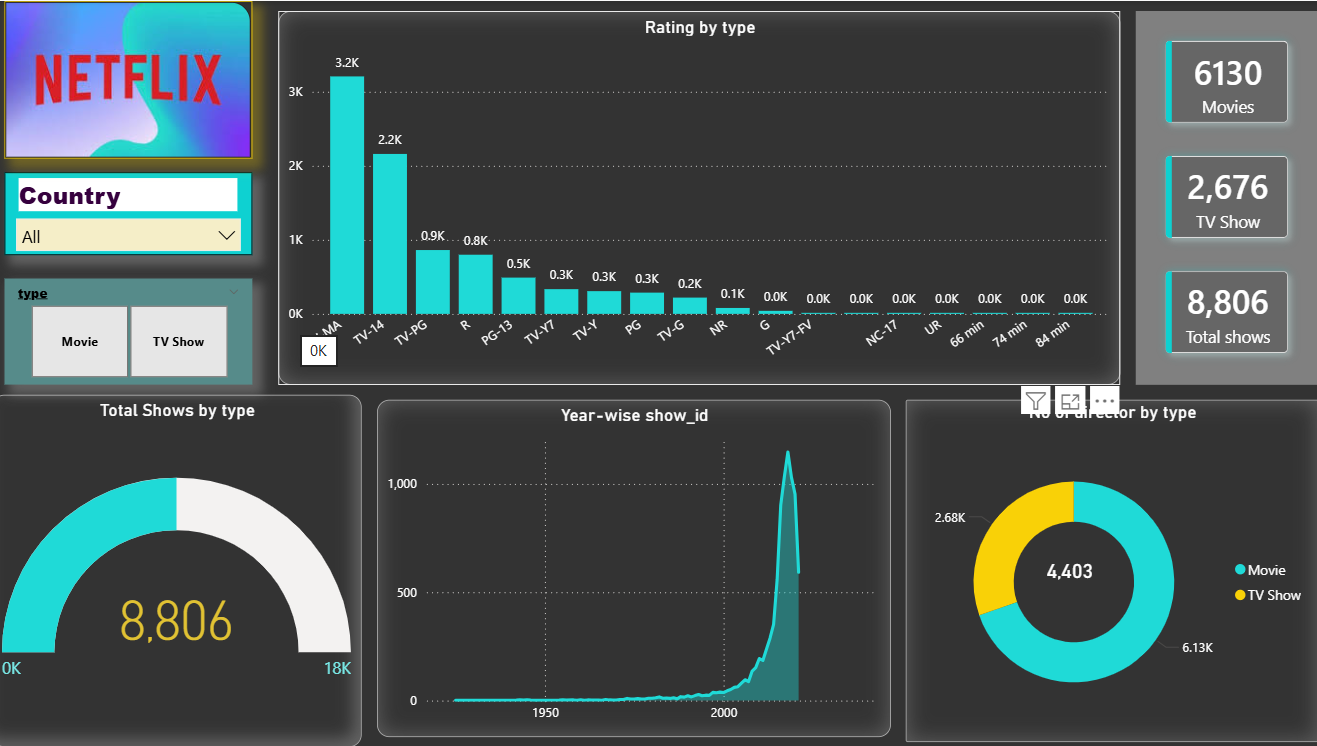

The dashboard page shown, as its layout file describes it:
{"tool":"powerbi","page":{"name":"Page 1","canvas":[1280,720],"ordinal":0},"visuals":[{"type":"cardVisual","fields":{"Data":["Measure_.Movies","Measure_.TV Shows","Measure_.Total shows"]},"box":[1103.9,9.7,176.1,360.7],"z":0},{"type":"gauge","title":"Total Shows by type","fields":{"Y":["Measure_.Total shows"]},"box":[0,380.1,356.8,340.3],"z":1000},{"type":"donutChart","title":"No of director by type","fields":{"Category":["netflix_titles.type"],"Y":["CountNonNull(netflix_titles.Director_new)"]},"box":[881.9,384.9,398.1,330.6],"z":2000},{"type":"areaChart","title":"Year-wise show_id","fields":{"Category":["netflix_titles.release_year"],"Y":["CountNonNull(netflix_titles.show_id)"]},"box":[371.6,384.9,495.8,325.7],"z":3000},{"type":"card","fields":{"Values":["Measure_.Total Director"]},"box":[966.4,481.4,148.4,137.5],"z":4000},{"type":"columnChart","title":"Rating by type","fields":{"Category":["netflix_titles.rating"],"Y":["CountNonNull(netflix_titles.show_id)"]},"box":[276.3,9.7,813.1,360.7],"z":5000},{"type":"slicer","fields":{"Values":["netflix_titles.Country_new"]},"box":[12.1,165.3,238.9,79.6],"z":6000},{"type":"slicer","fields":{"Values":["netflix_titles.type"]},"box":[12.1,267.8,238.9,102.5],"z":7000},{"type":"image","box":[12.1,0,238.9,152],"z":8000}]}

Visuals, with their boxes in screenshot pixels (x1, y1, x2, y2), scaled from the page's 1280x720 canvas onto the 1317x746 screenshot:
cardVisual - Measure_.Movies x Measure_.TV Shows: (x1=1136, y1=10, x2=1316, y2=384)
"Total Shows by type" gauge: (x1=0, y1=394, x2=367, y2=745)
"No of director by type" donutChart: (x1=907, y1=399, x2=1316, y2=741)
"Year-wise show_id" areaChart: (x1=382, y1=399, x2=892, y2=736)
card - Measure_.Total Director: (x1=994, y1=499, x2=1147, y2=641)
"Rating by type" columnChart: (x1=284, y1=10, x2=1121, y2=384)
slicer - netflix_titles.Country_new: (x1=12, y1=171, x2=258, y2=254)
slicer - netflix_titles.type: (x1=12, y1=277, x2=258, y2=384)
image: (x1=12, y1=0, x2=258, y2=157)
